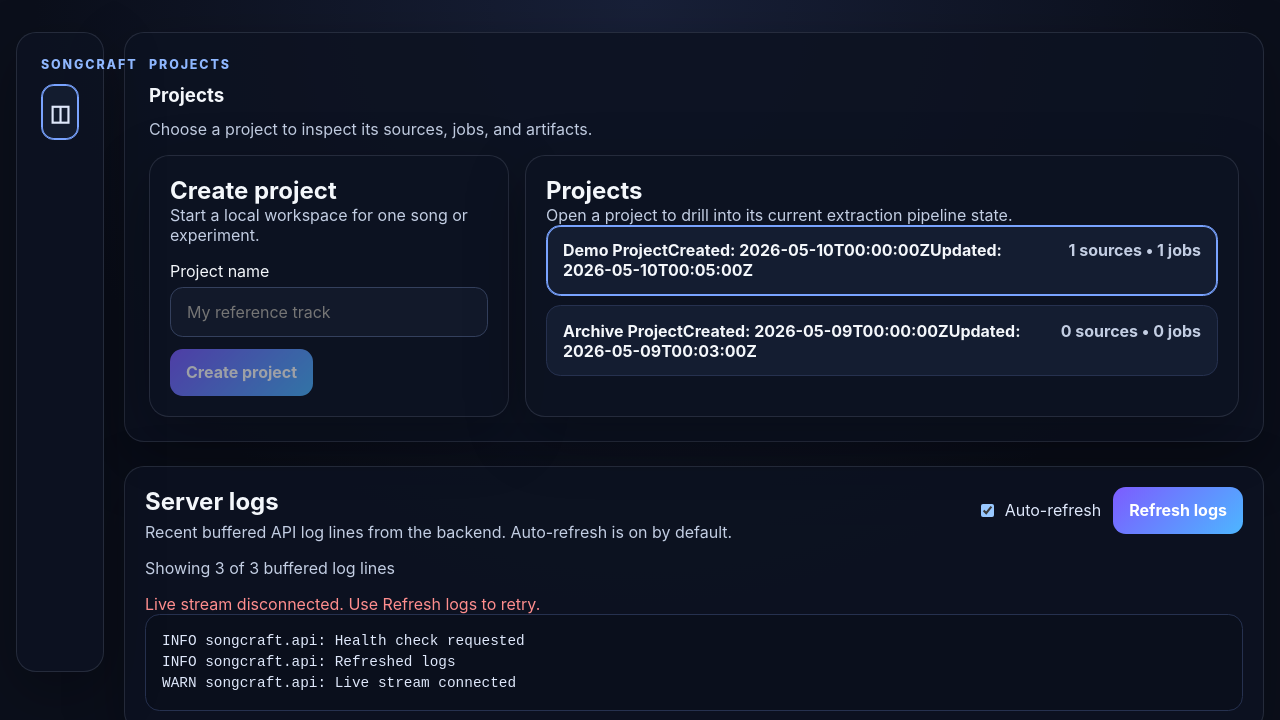
Test: App › streams new server log lines over SSE and falls back to manual refresh after stream errors
The image size is (1280, 720).
Expected: the heading "Server logs" is shown, top-left (145, 487), bottom-right (279, 516)
Expected: the text named "Recent server log lines" shows "WARN songcraft.api: Live stream connected", top-left (162, 633), bottom-right (525, 691)
What coordinates should you click on to do the following:
click the button "Refresh logs"
I would click on:
 (1178, 510)
Its box is top-left (1113, 487), bottom-right (1243, 534).
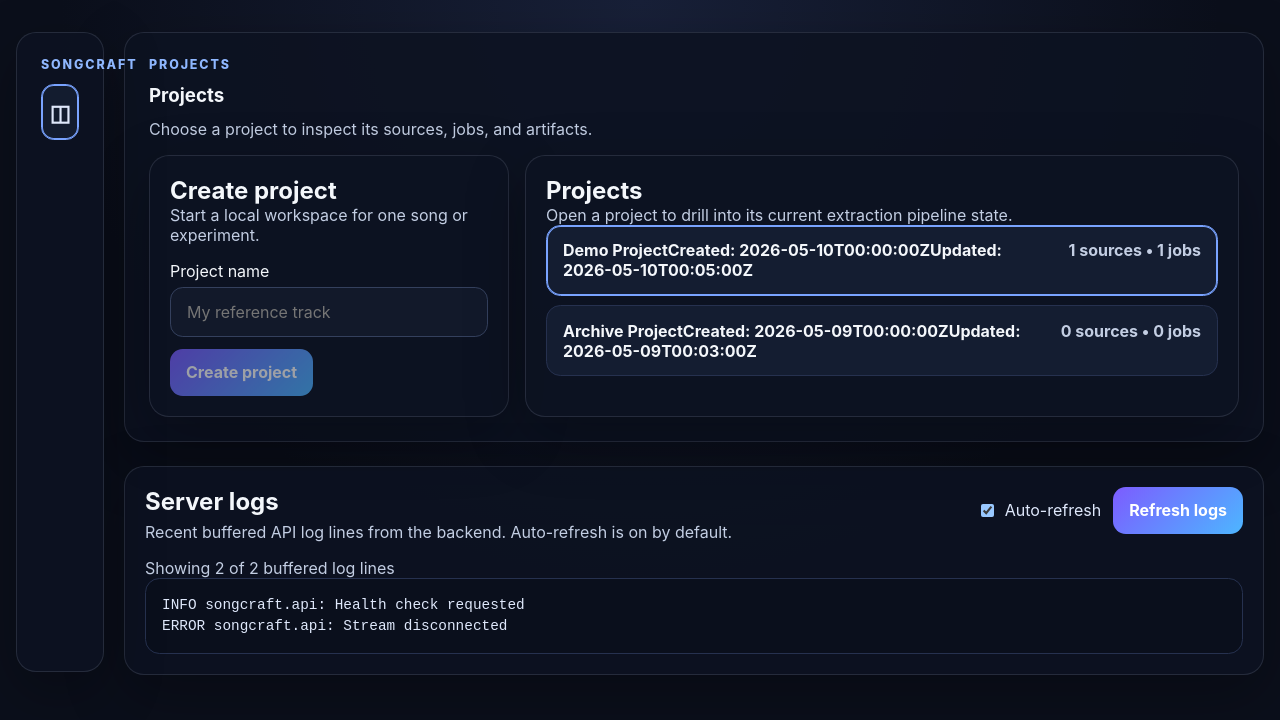
Now the text named "Recent server log lines" shows "ERROR songcraft.api: Stream disconnected", box top-left (162, 597), bottom-right (525, 634)
